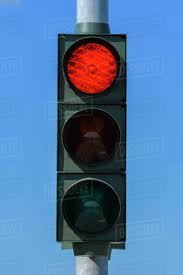red: (50, 27, 133, 254), (58, 33, 124, 241)
